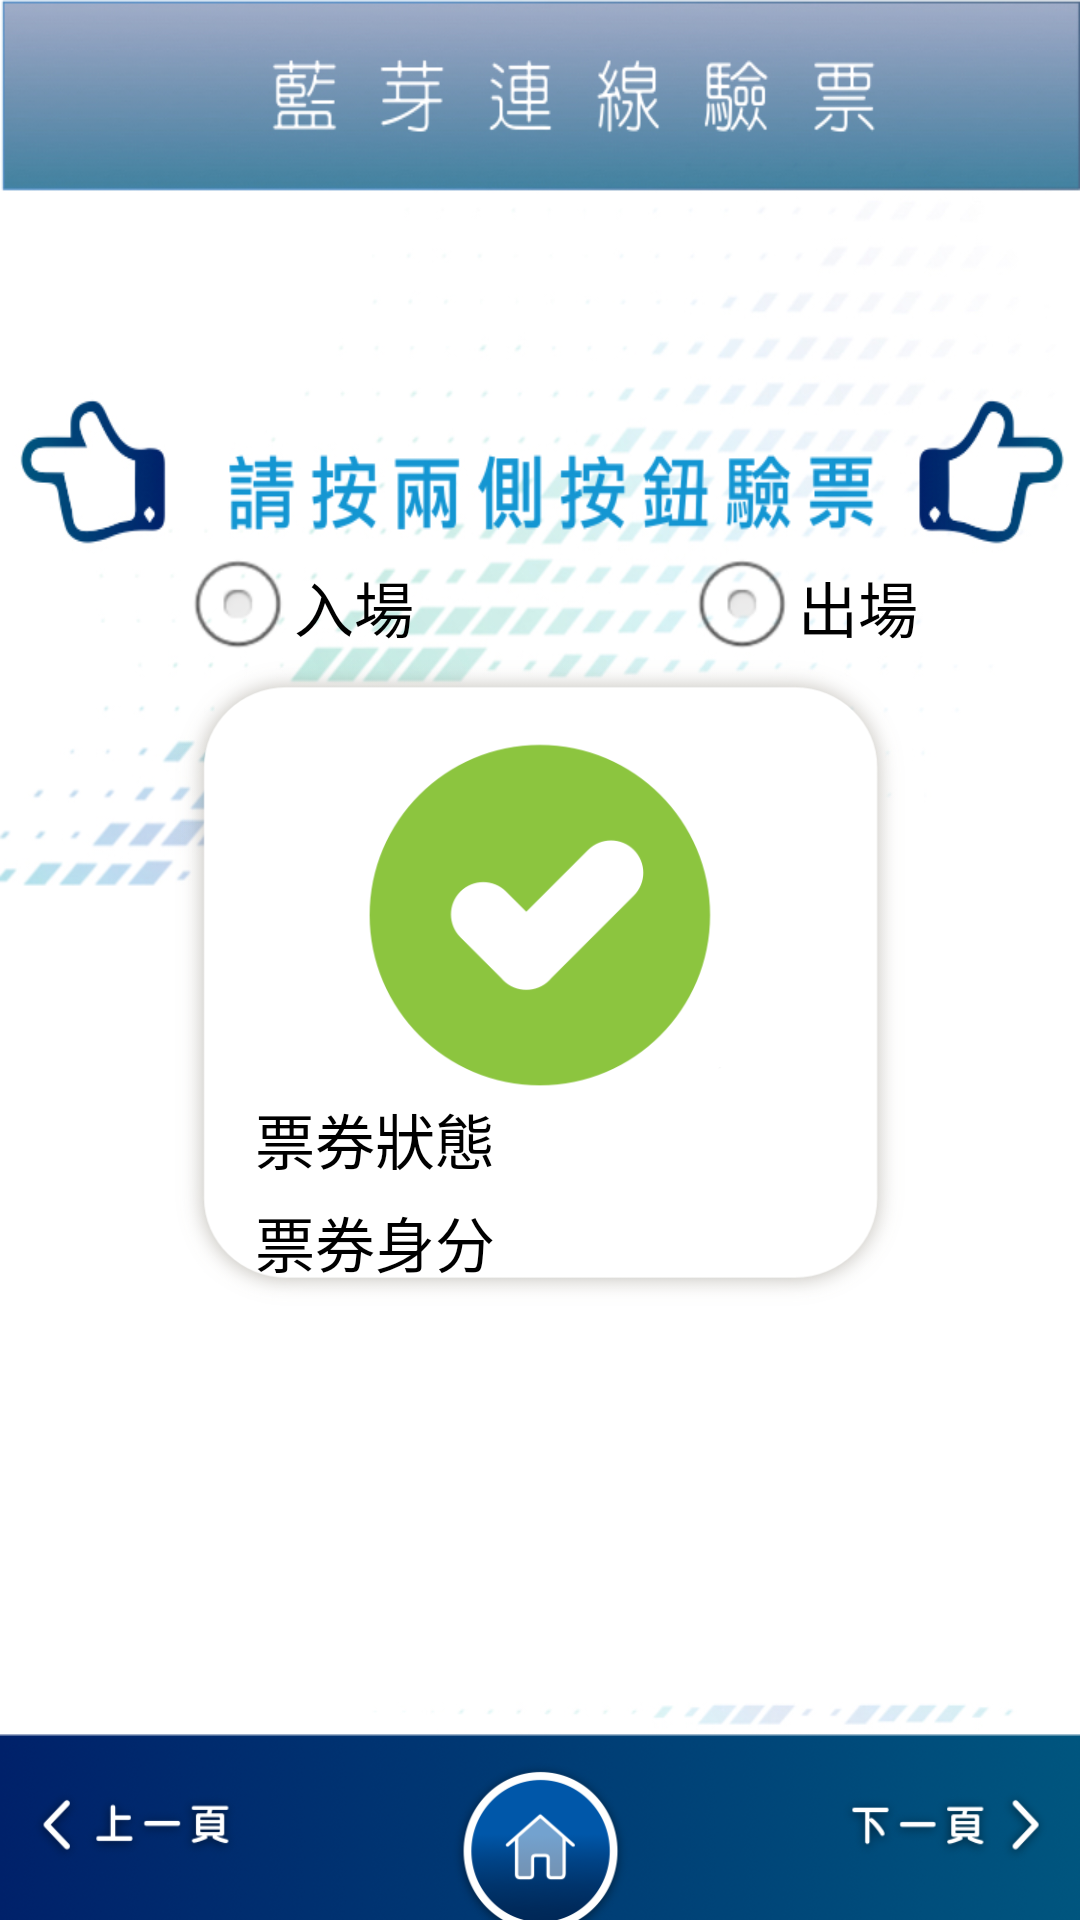

Point at icon controls on the screen. Image size 1080 × 1920, points as (x,y).
ticket success: (540,915)
